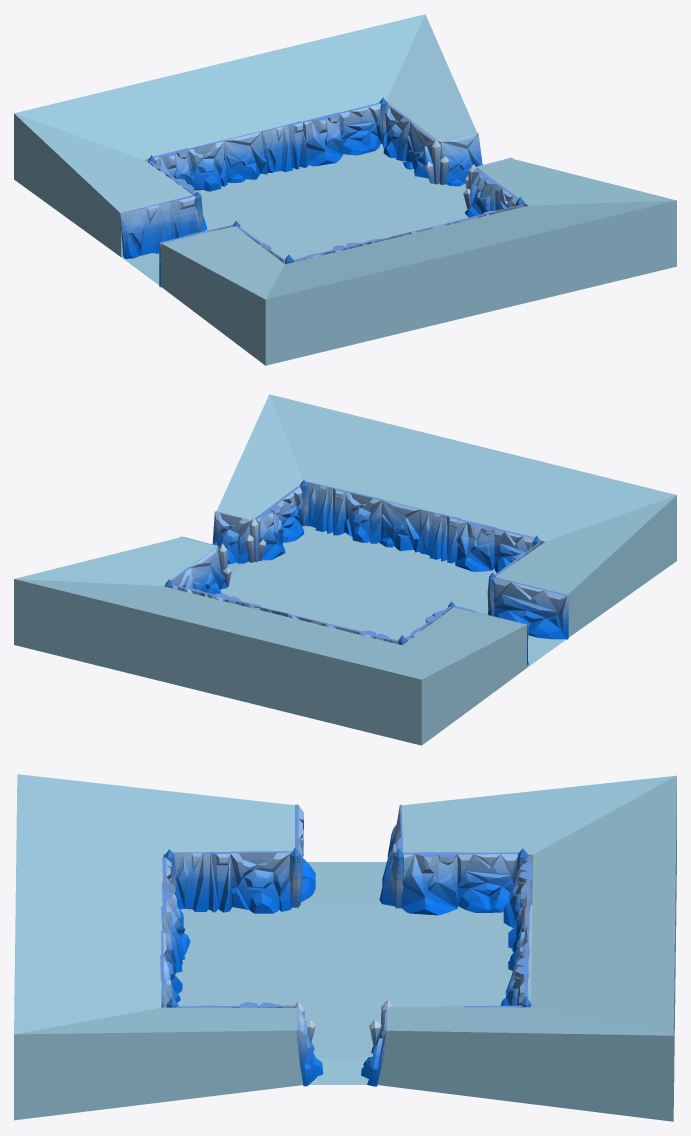
Rendered from Arena.fbx.
3 views of the same model, one above another, from view 1: azimuth 30°, elevation 25°; view 2: azimuth 150°, elevation 25°; view 3: azimuth 270°, elevation 25° (orthographic). The views are drawn at different scales.
Visible parts, largest first — view 1: ground, wall_02.002, wall_02.004, wall_04.004, wall_01.004, wall_03.004, wall_05.004, wall_01.005, wall_01.003, wall_05.003, wall_03.003, wall_03.005; view 2: ground, wall_04.003, wall_03.001, wall_01.001, wall_02.005, wall_02.001, wall_05.001, wall_05.005, wall_01.003, wall_03.003, wall_04.001, wall_04.005; view 3: ground, wall_05.002, wall_03.002, wall_04.002, wall_02.006, wall_05.005, wall_02.002, wall_01.005, wall_04.003, wall_03.005, wall_02.001, wall_03.004 (+4 smaller).
Part boxes in pixels (x1=…): ground: x1=14, y1=14, x2=676, y2=365; wall_02.002: x1=119, y1=195, x2=199, y2=258; wall_02.004: x1=262, y1=121, x2=308, y2=172; wall_04.004: x1=339, y1=102, x2=381, y2=155; wall_01.004: x1=223, y1=131, x2=267, y2=182; wall_03.004: x1=302, y1=112, x2=343, y2=166; wall_05.004: x1=188, y1=140, x2=227, y2=191; wall_01.005: x1=440, y1=132, x2=482, y2=186; wall_01.003: x1=403, y1=120, x2=438, y2=182; wall_05.003: x1=382, y1=104, x2=411, y2=161; wall_03.003: x1=465, y1=168, x2=498, y2=217; wall_03.005: x1=153, y1=148, x2=191, y2=185; ground: x1=14, y1=394, x2=676, y2=745; wall_04.003: x1=492, y1=577, x2=568, y2=639; wall_03.001: x1=455, y1=519, x2=496, y2=571; wall_01.001: x1=379, y1=499, x2=420, y2=552; wall_02.005: x1=305, y1=481, x2=346, y2=535; wall_02.001: x1=419, y1=509, x2=460, y2=563; wall_05.001: x1=344, y1=491, x2=383, y2=543; wall_05.005: x1=212, y1=511, x2=251, y2=564; wall_01.003: x1=189, y1=547, x2=226, y2=594; wall_03.003: x1=255, y1=504, x2=285, y2=560; wall_04.001: x1=494, y1=528, x2=534, y2=572; wall_04.005: x1=274, y1=486, x2=304, y2=542; ground: x1=14, y1=774, x2=676, y2=1121; wall_05.002: x1=230, y1=851, x2=291, y2=913; wall_03.002: x1=401, y1=852, x2=457, y2=915; wall_04.002: x1=457, y1=852, x2=518, y2=912; wall_02.006: x1=172, y1=852, x2=232, y2=912; wall_05.005: x1=295, y1=1007, x2=322, y2=1086; wall_02.002: x1=379, y1=804, x2=402, y2=905; wall_01.005: x1=361, y1=1007, x2=388, y2=1086; wall_04.003: x1=295, y1=804, x2=315, y2=902; wall_03.005: x1=503, y1=856, x2=531, y2=927; wall_02.001: x1=161, y1=905, x2=184, y2=974; wall_03.004: x1=500, y1=951, x2=528, y2=1005.
Bounding box in the file's own units: 9934 × 1550 × 10641.
32 materials, 31 textured.
